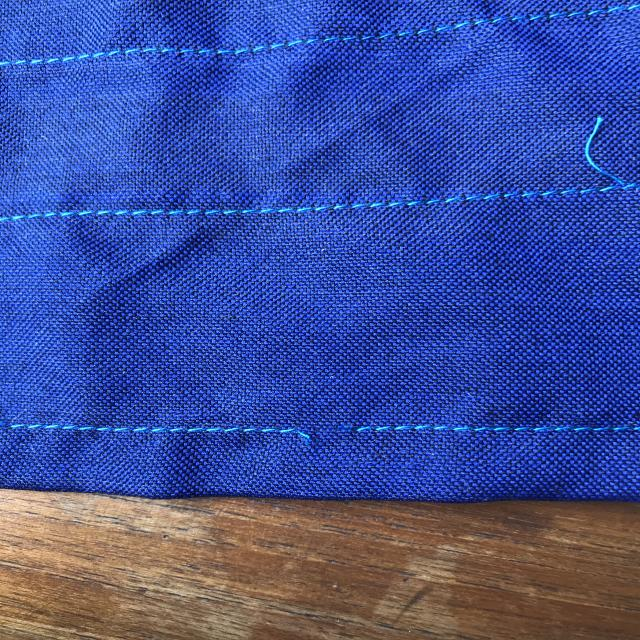broken: (266, 406, 383, 452)
good: (163, 192, 333, 228)
